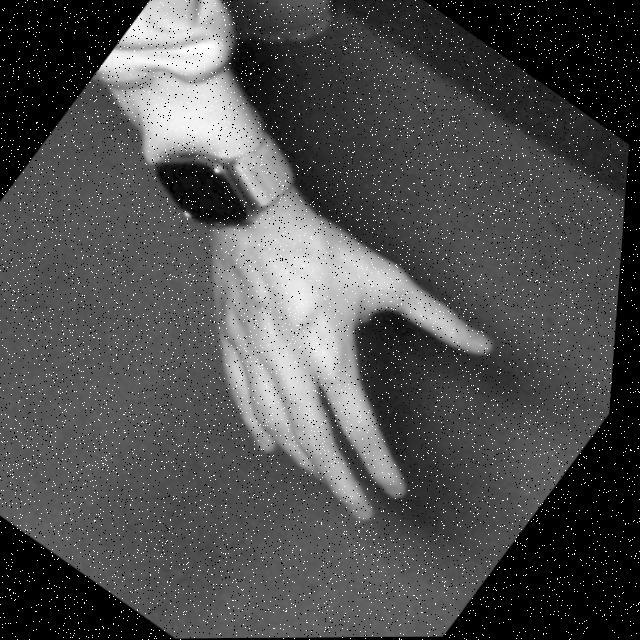no-gloves: (134, 170, 536, 540)
